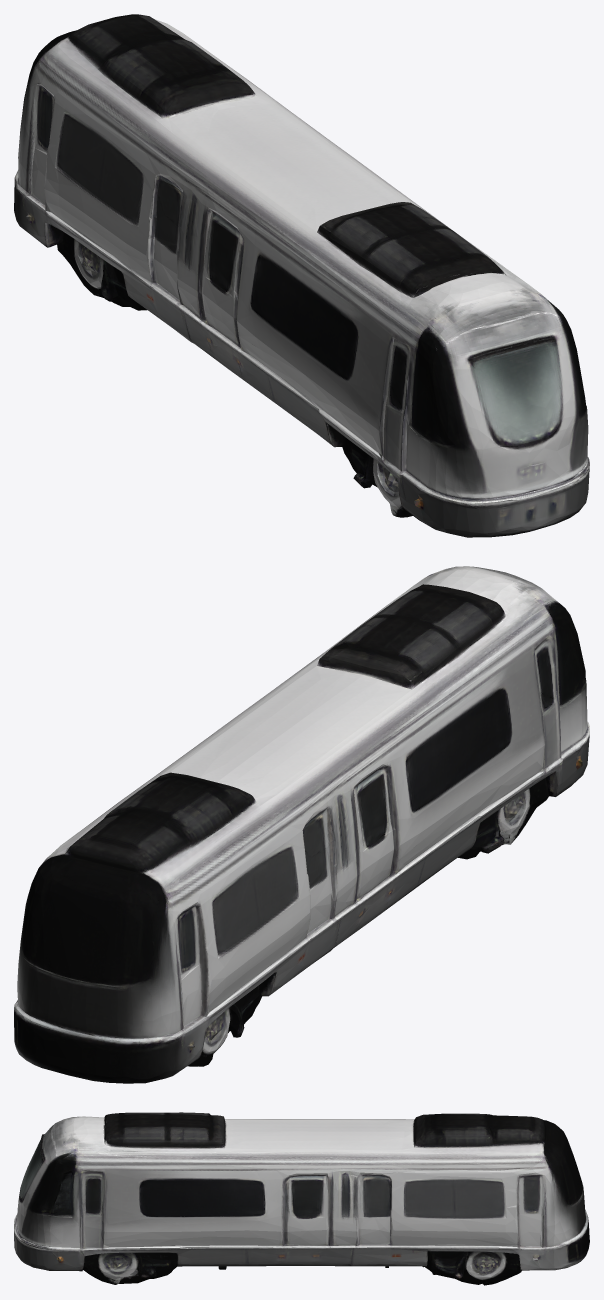
File: edit.glb
The picture shows the model from 3 angles, top to bottom: view 1: azimuth 30°, elevation 25°; view 2: azimuth 150°, elevation 25°; view 3: azimuth 270°, elevation 25°; orthographic projection. The views are drawn at different scales.
Parts seen in each view (by area): view 1: world; view 2: world; view 3: world.
Boxes of the visible parts, x1,y1,x2,y2 form: world: (14, 14, 589, 537); world: (14, 566, 589, 1083); world: (14, 1112, 589, 1285).
Size of the model in its own units: 0.2108 by 0.2889 by 0.9999.
1 material, 1 textured.
